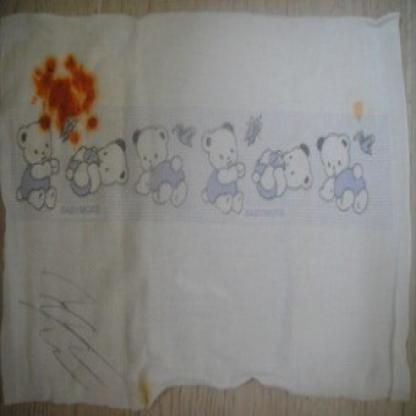kimchi: (28, 56, 100, 140), (46, 83, 82, 116), (350, 96, 370, 124), (63, 56, 82, 76), (37, 110, 54, 131), (38, 57, 57, 74), (70, 129, 83, 145), (89, 116, 101, 128)
